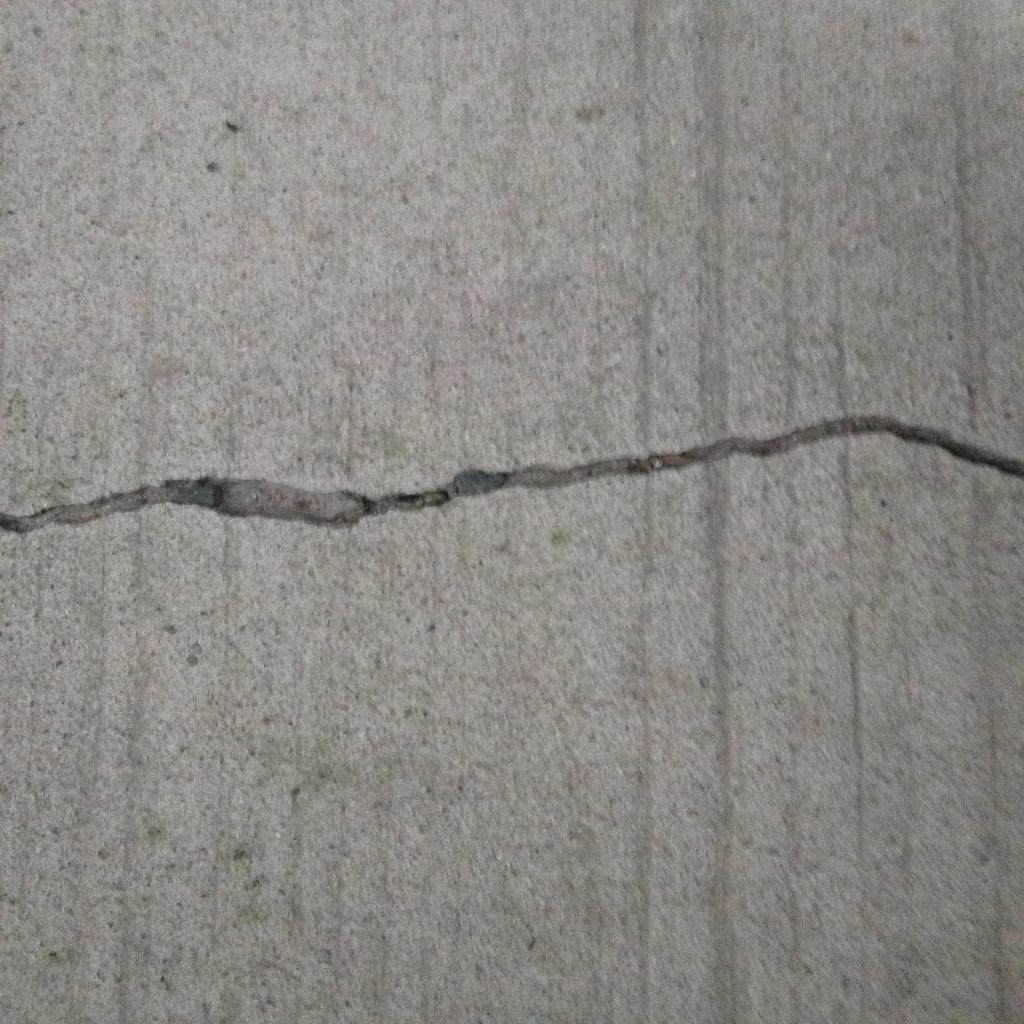Crack: (1, 413, 1024, 536)
